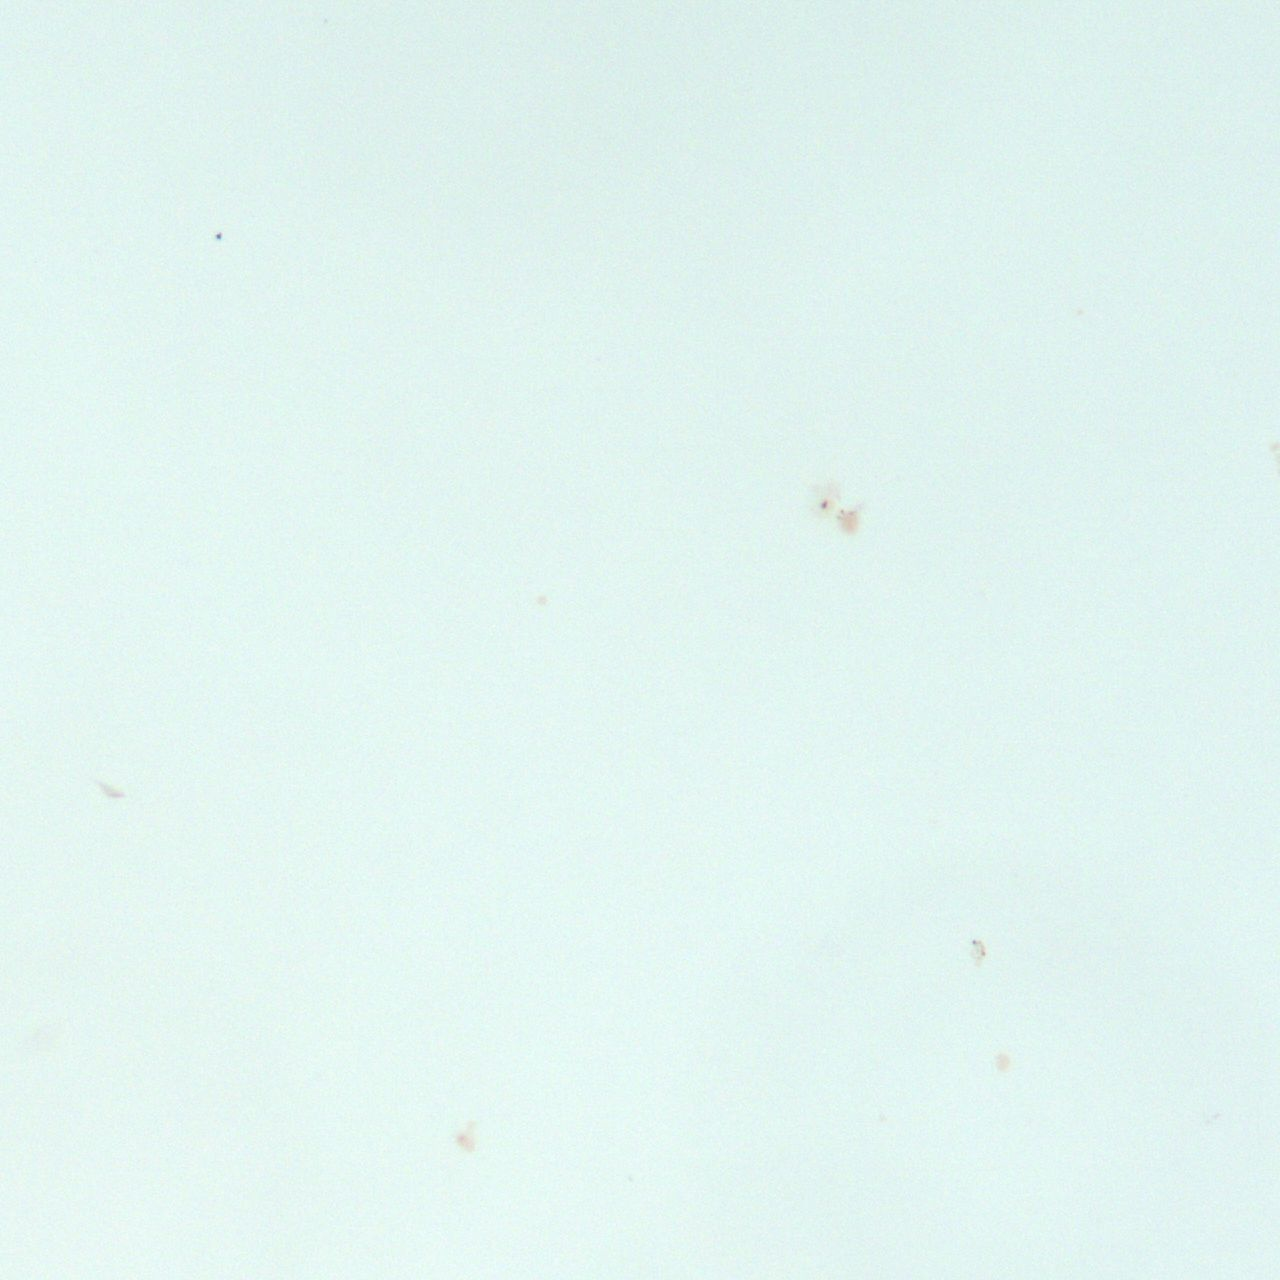dust: (808, 478, 866, 541), (445, 1121, 479, 1157)
